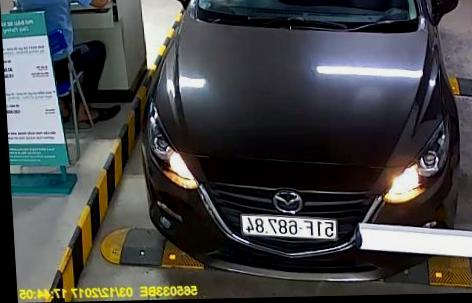License_Plate: (237, 209, 343, 239)
